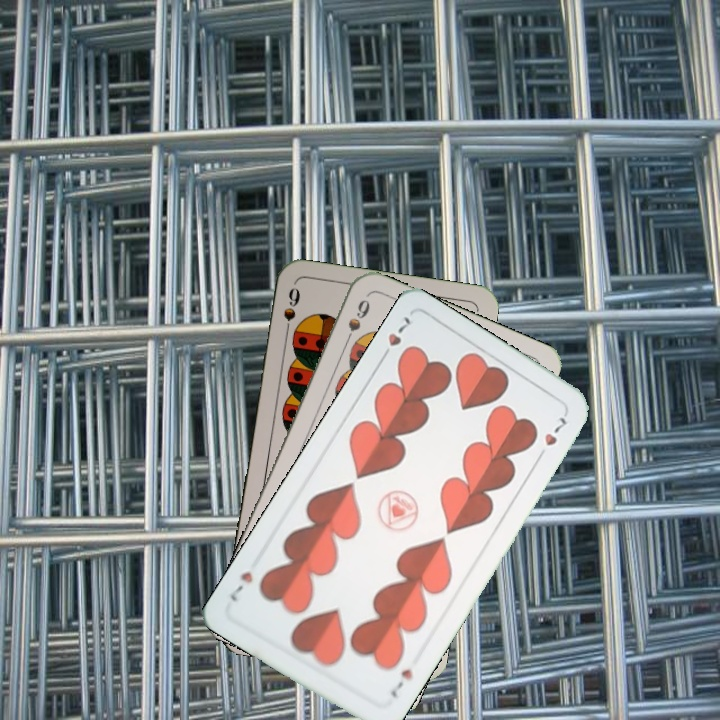H7: (376, 312, 413, 364), (386, 664, 415, 700)
S9: (339, 295, 373, 350), (279, 283, 303, 342)
